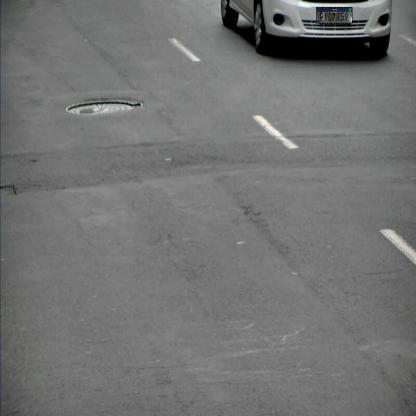PlacaM: (316, 7, 353, 24)
